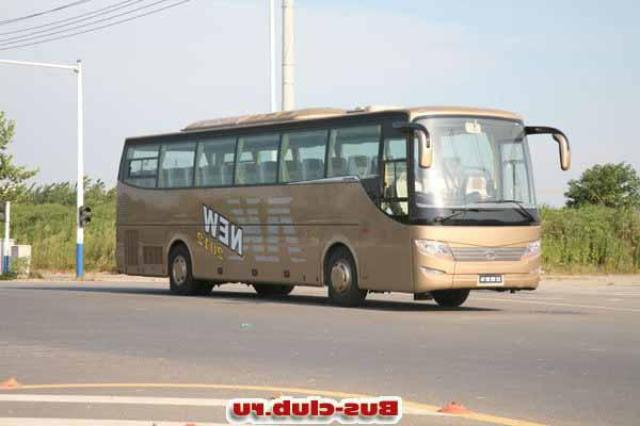bus: (110, 106, 576, 314)
